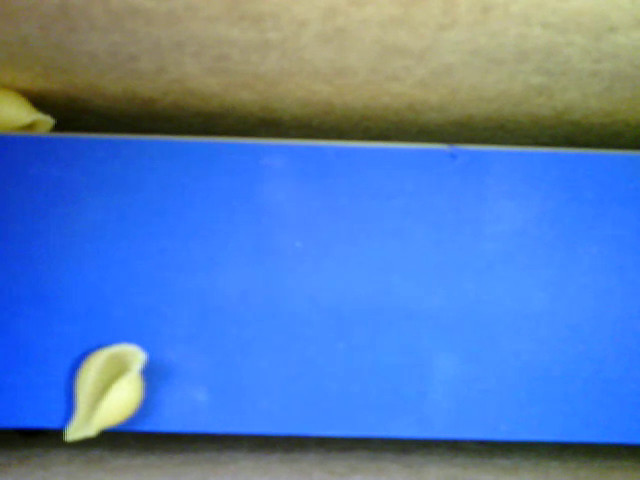elbow: (62, 333, 146, 443), (2, 85, 59, 139)
